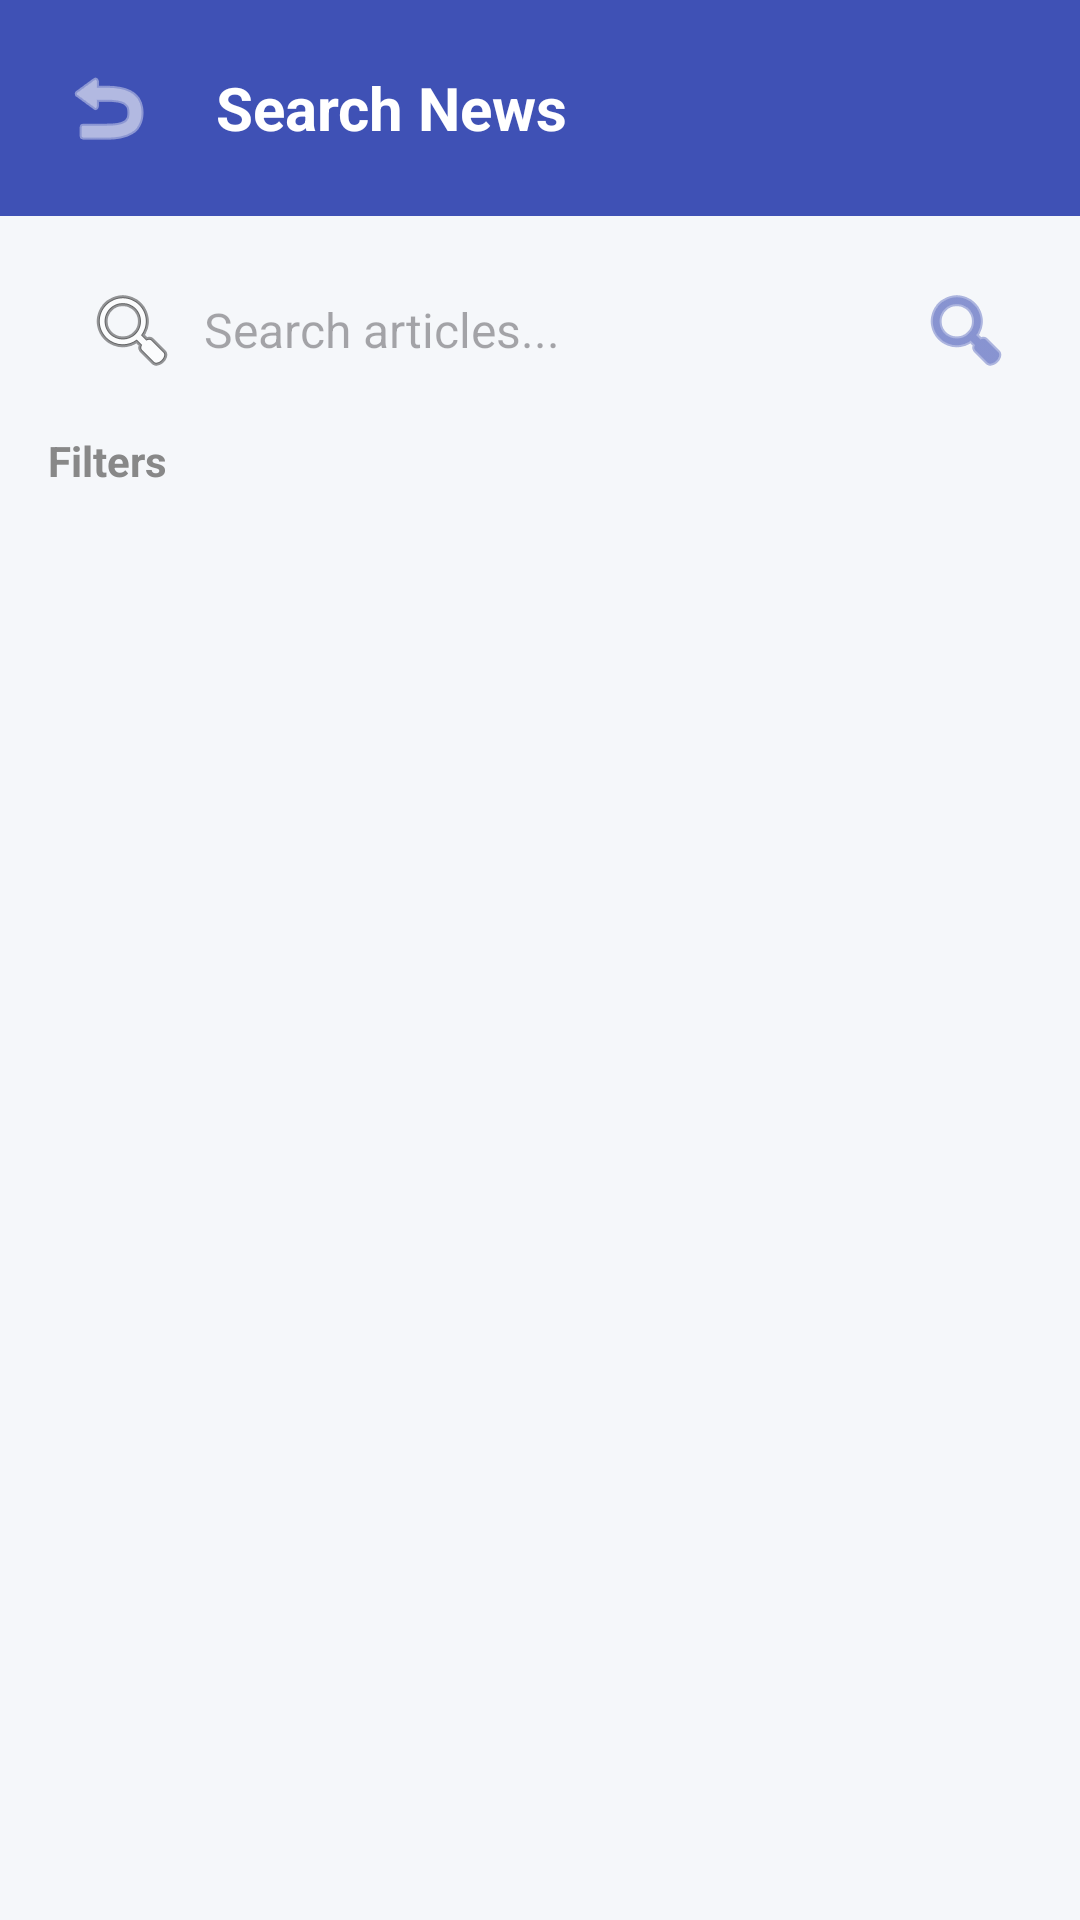

Named icons in this screenshot (1080px×1920px) and their bounding boxes, (x1, y1, x2, y2):
Back: (75, 77, 144, 140)
